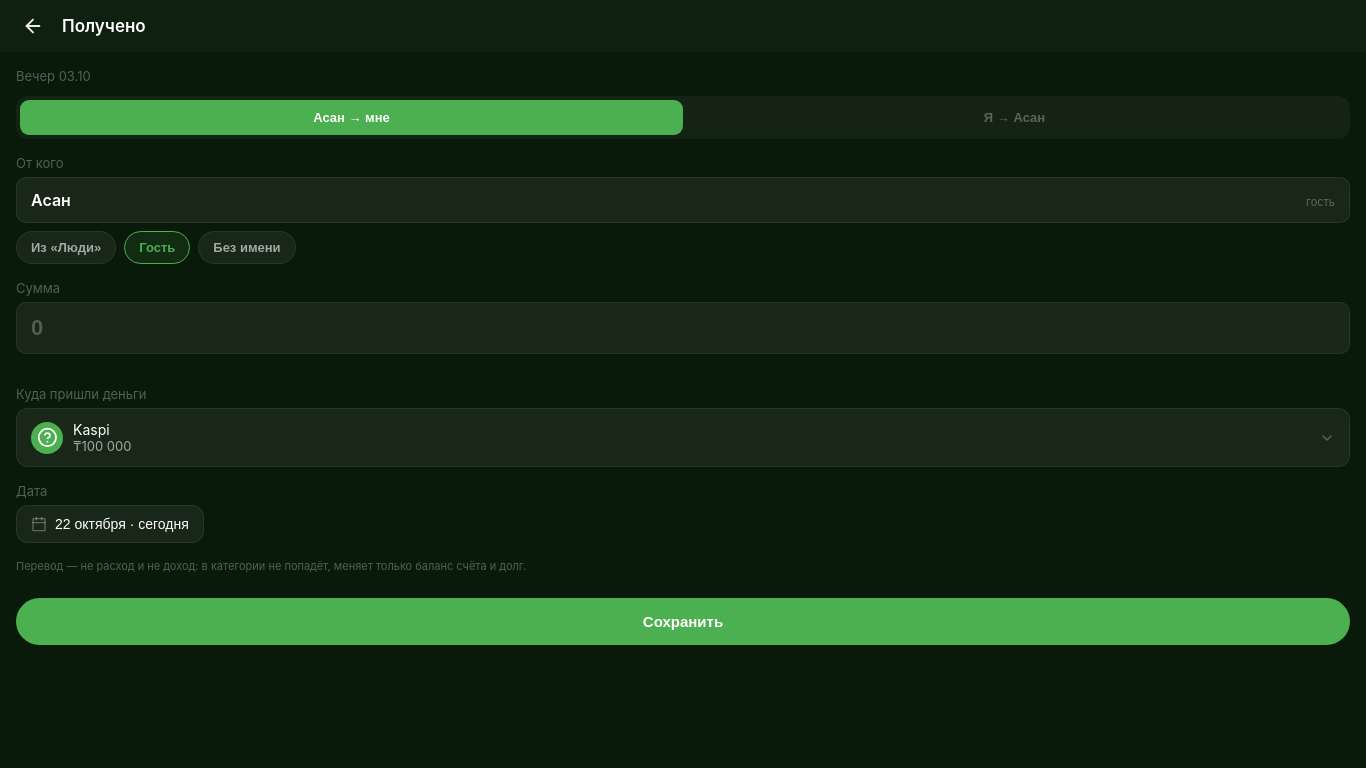
Test case: аванс: перевод до счетов — без вариантов закрытия
Type "5000" into the field with placeholder "0" at (683, 328), box [16, 302, 1350, 354]
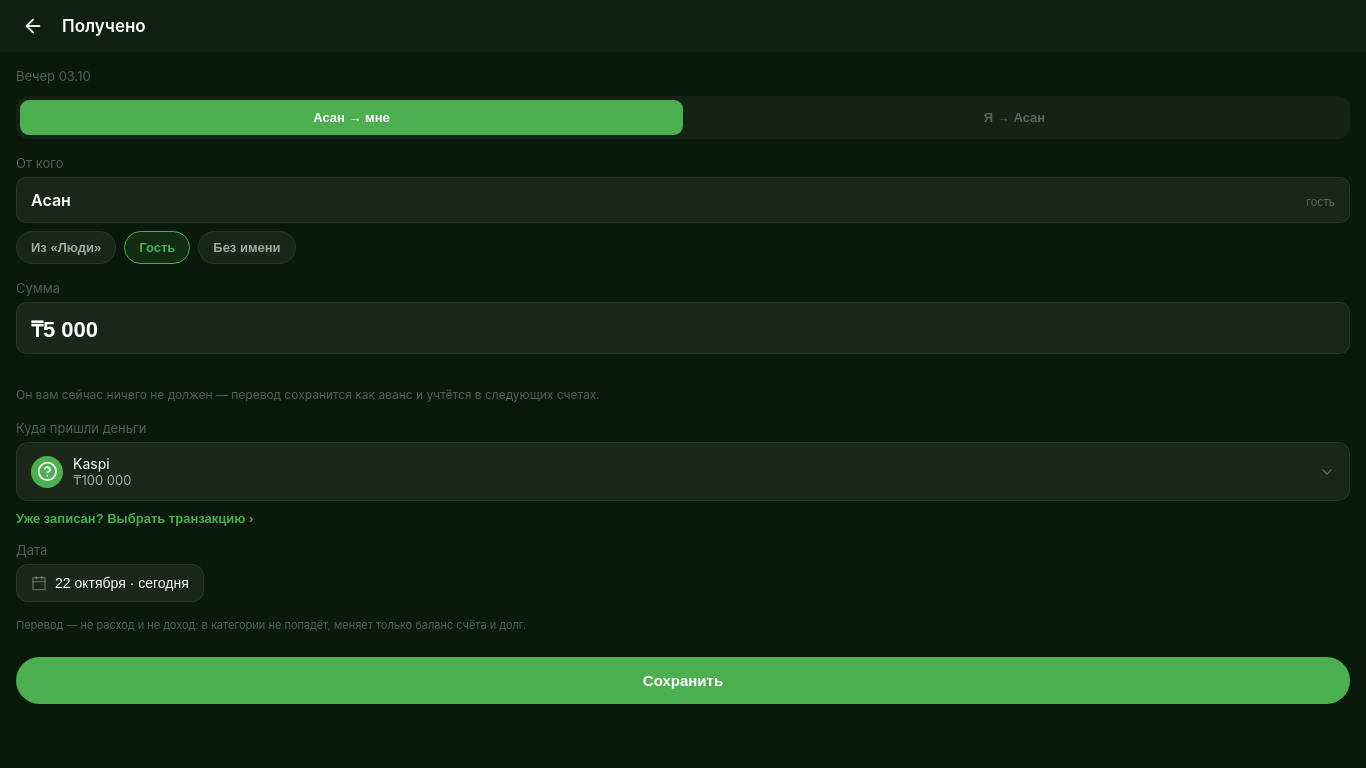
Result: the text "сохранится как аванс" is shown at [212, 387, 600, 402]
